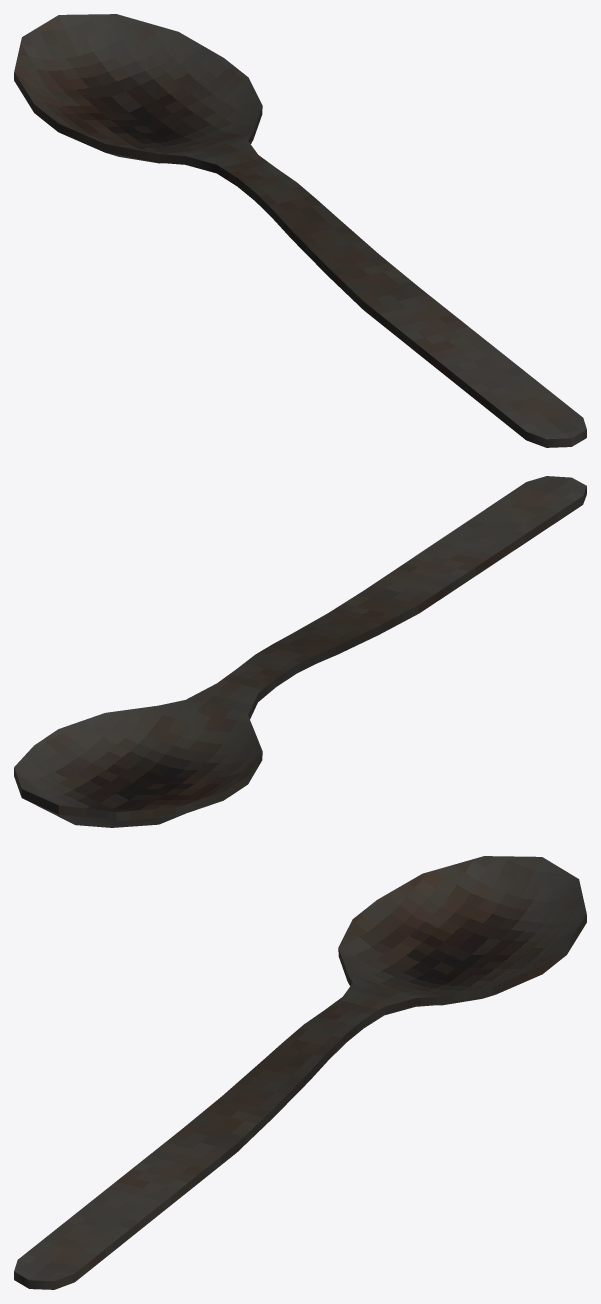
File: spoon_mp_1.glb
3 renders of one model, top to bottom at view 1: azimuth 30°, elevation 25°; view 2: azimuth 150°, elevation 25°; view 3: azimuth 330°, elevation 25°, orthographic.
Visible parts, largest first — view 1: spoon_mp_1; view 2: spoon_mp_1; view 3: spoon_mp_1.
Part boxes in pixels (x1,y1,x2,y2): spoon_mp_1: (14, 14, 586, 447); spoon_mp_1: (14, 476, 586, 827); spoon_mp_1: (14, 856, 586, 1289).
Size of the model in its own units: 0.0585 by 0.0168 by 0.2741.
1 material, 1 textured.
